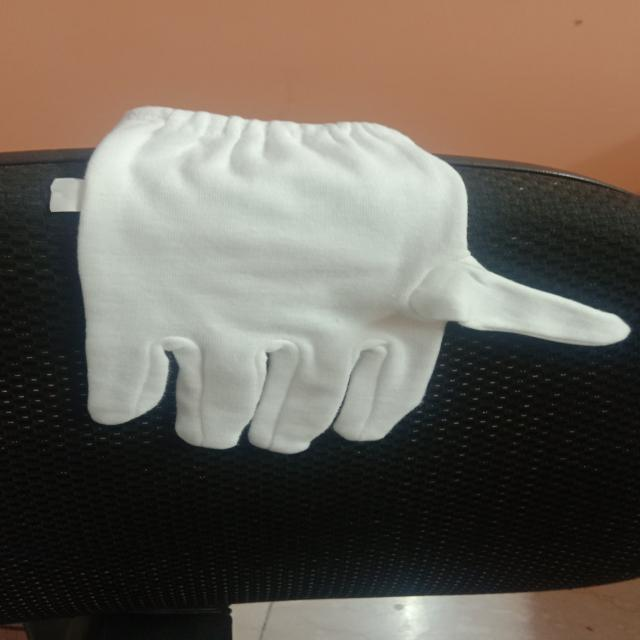gloved_hand: (66, 104, 640, 468)
